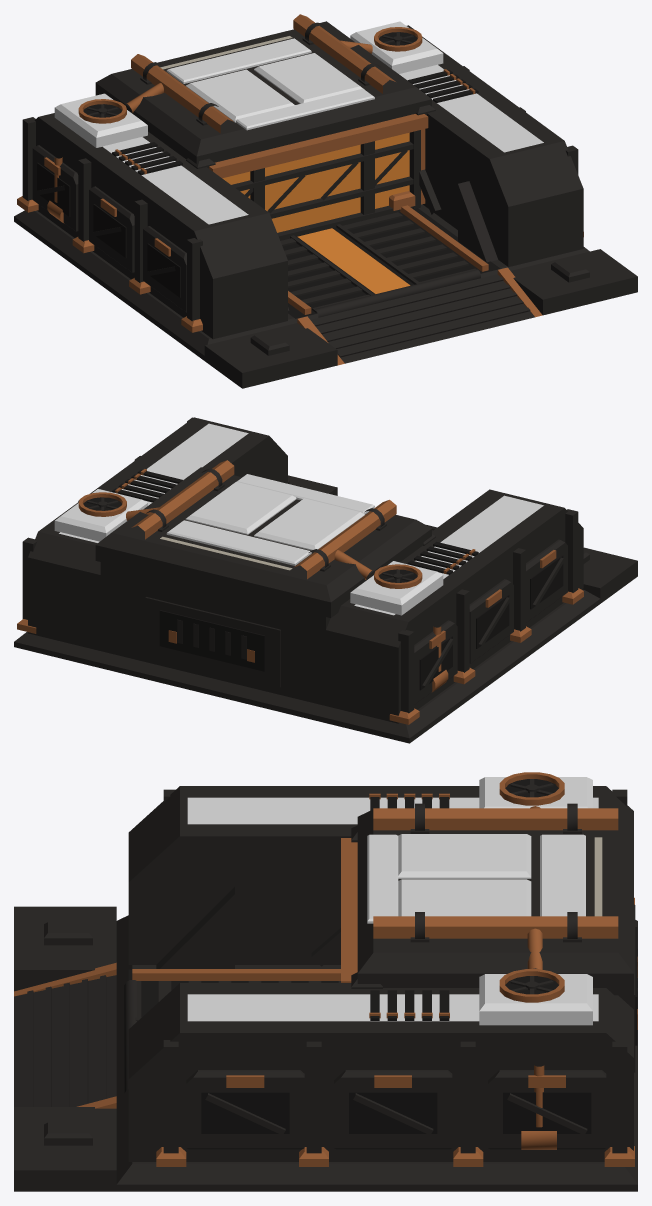
Rendered from str_t1_fac_land.dd66f57f.raw.glb.
The picture shows the model from 3 angles, top to bottom: view 1: azimuth 30°, elevation 25°; view 2: azimuth 150°, elevation 25°; view 3: azimuth 270°, elevation 25°; orthographic projection. The views are drawn at different scales.
Visible parts, largest first — view 1: lod0; view 2: lod0; view 3: lod0.
Part boxes in pixels (left/top/right/bottom): lod0: left=14, top=14, right=637, bottom=388; lod0: left=14, top=417, right=637, bottom=743; lod0: left=14, top=772, right=637, bottom=1191.
Size of what is drawn, in the model's own units: 4.94 by 1.75 by 4.94.
